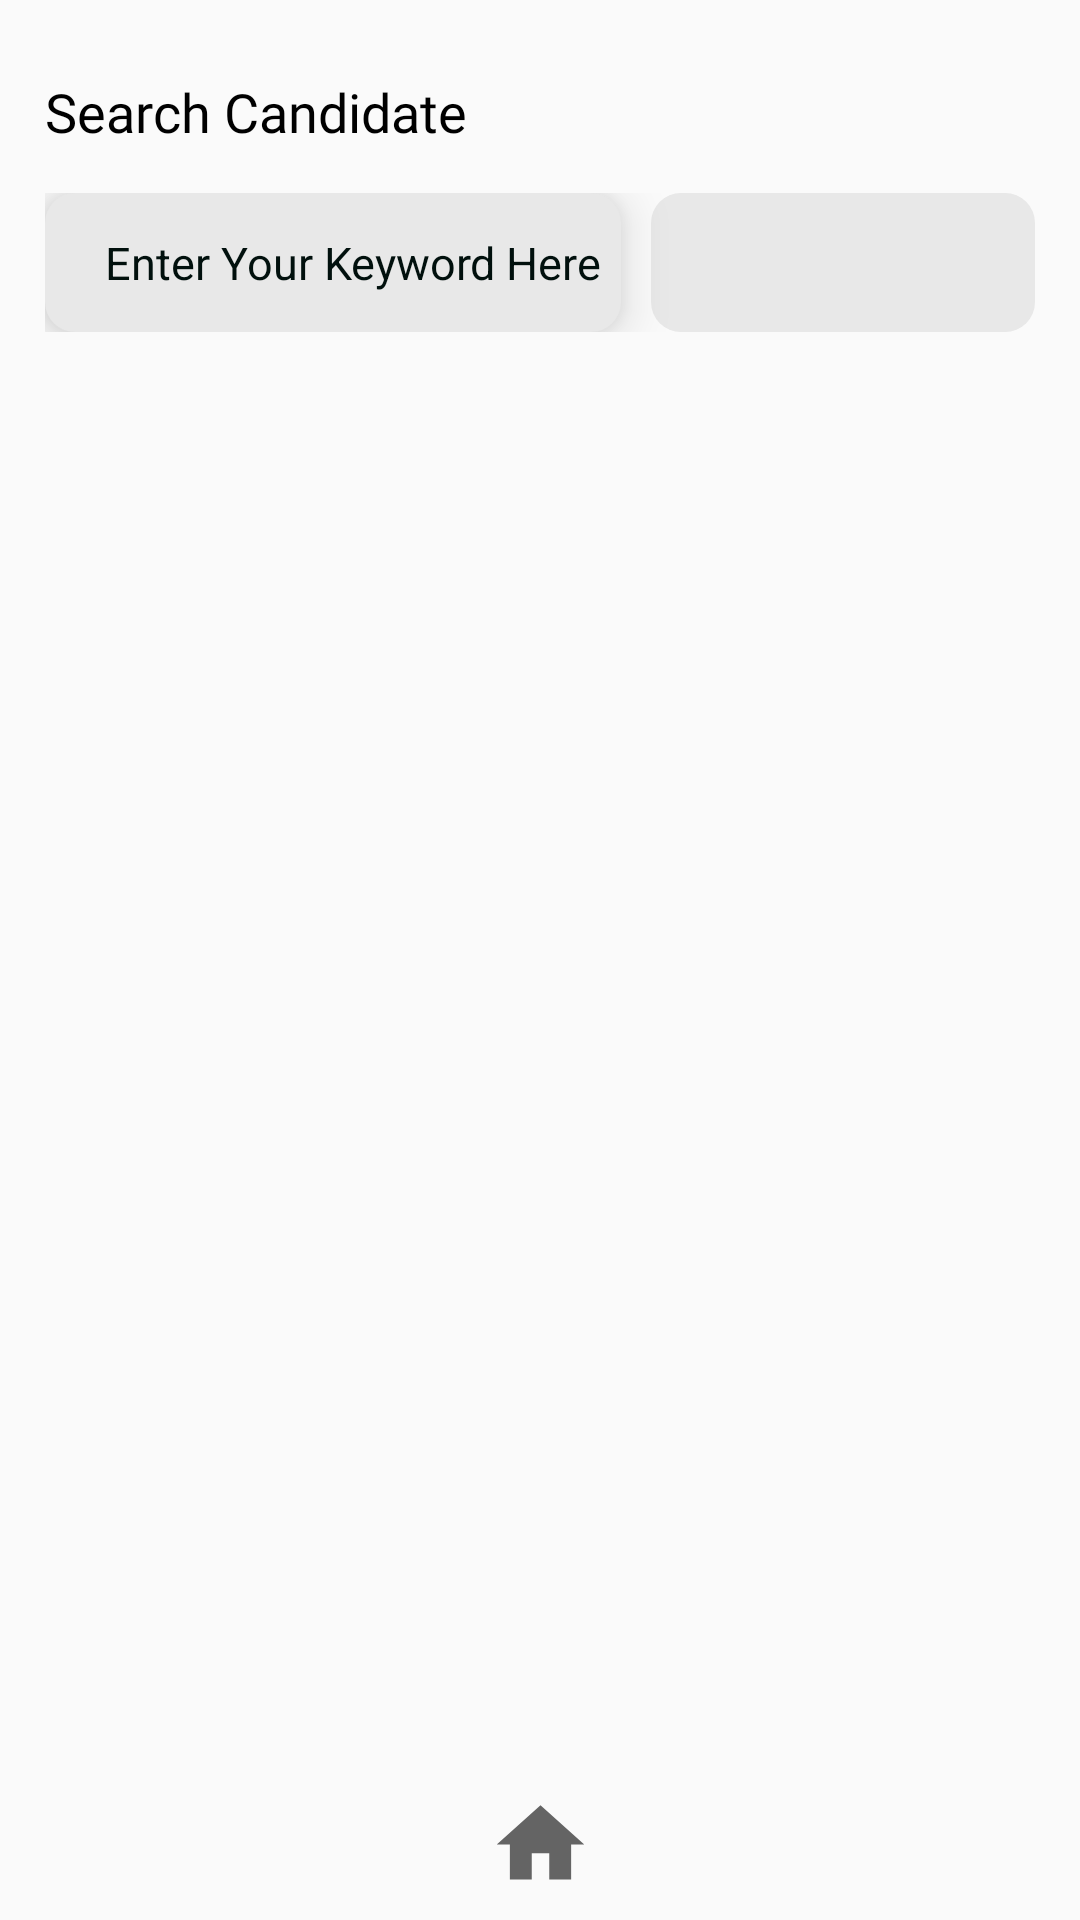

Icon bounding boxes for this 1080x1920 phone screenshot, format Rect(x1, y1, x2, y2):
home: Rect(497, 1805, 584, 1880)
